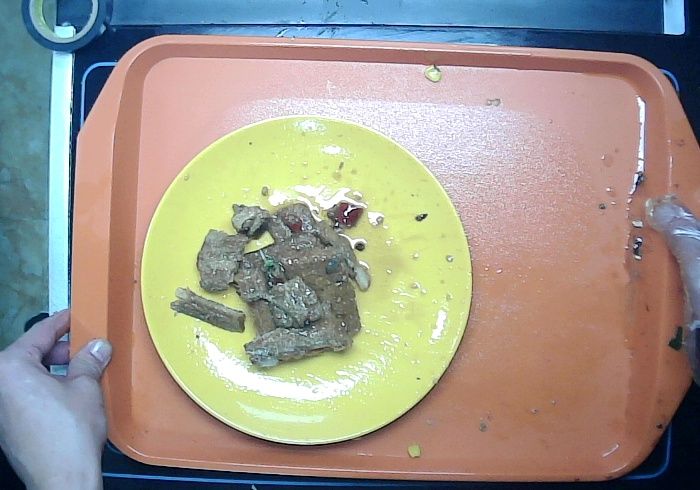HZYJPL-Huang_Se_Yuan_Pan: (136, 114, 471, 447)
